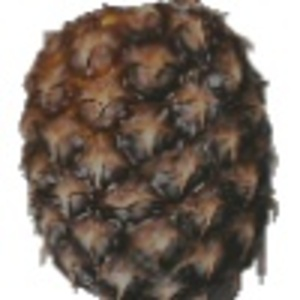abacaxi: (13, 6, 286, 298)
